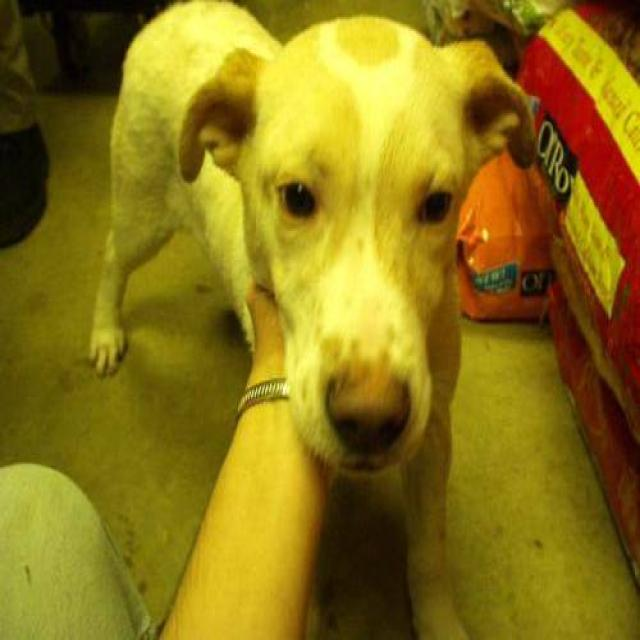Dog: (177, 28, 530, 482)
